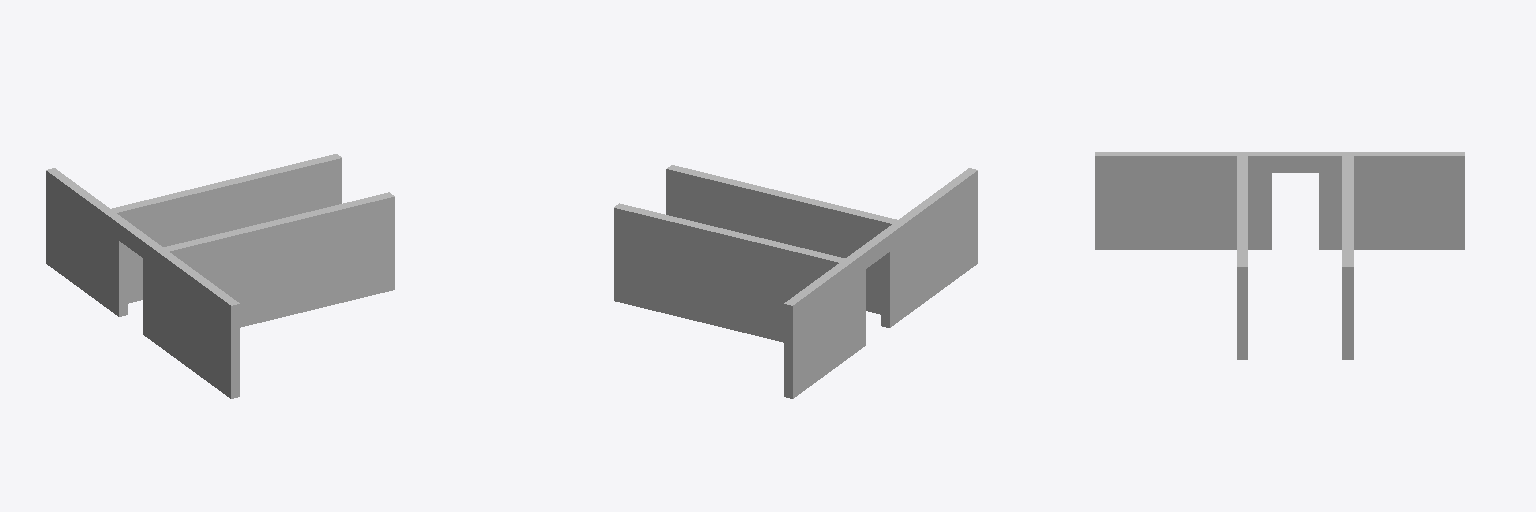
File: Wall (Door).obj
3 renders of one model, left to right at view 1: azimuth 30°, elevation 25°; view 2: azimuth 150°, elevation 25°; view 3: azimuth 270°, elevation 25°, orthographic.
Parts seen in each view (by area): view 1: Door_Wall_Cube.002; view 2: Door_Wall_Cube.002; view 3: Door_Wall_Cube.002.
Part boxes in pixels (left/top/right/bottom): Door_Wall_Cube.002: left=46, top=154, right=394, bottom=398; Door_Wall_Cube.002: left=614, top=165, right=977, bottom=398; Door_Wall_Cube.002: left=1095, top=152, right=1464, bottom=359.
Bounding box in the file's own units: 26.33 × 10 × 35.99.